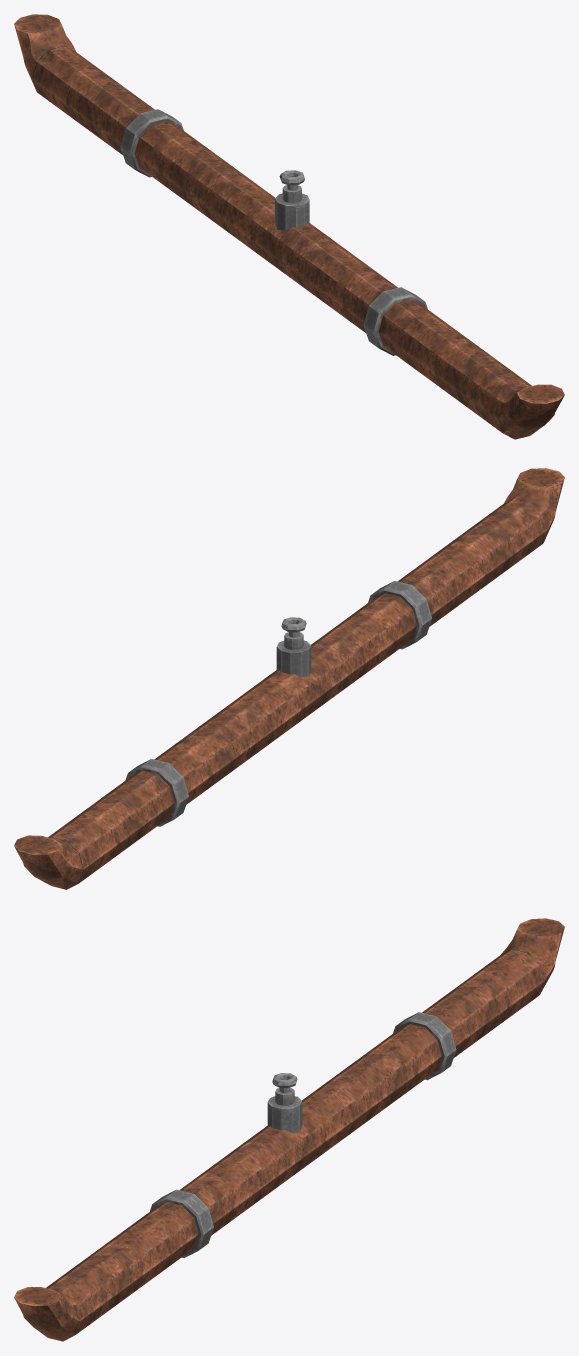
The model's file is Cano3_Final.fbx.
3 views of the same model, one above another, from view 1: azimuth 30°, elevation 25°; view 2: azimuth 150°, elevation 25°; view 3: azimuth 330°, elevation 25° (orthographic).
Visible parts, largest first — view 1: pTorus4; view 2: pTorus4; view 3: pTorus4.
Boxes of the visible parts, x1,y1,x2,y2 form: pTorus4: (14,14,564,439); pTorus4: (14,468,564,889); pTorus4: (14,918,564,1341).
Bounding box in the file's own units: 0.7717 × 1.28 × 12.24.
Materials: 1 (1 with a texture image).
